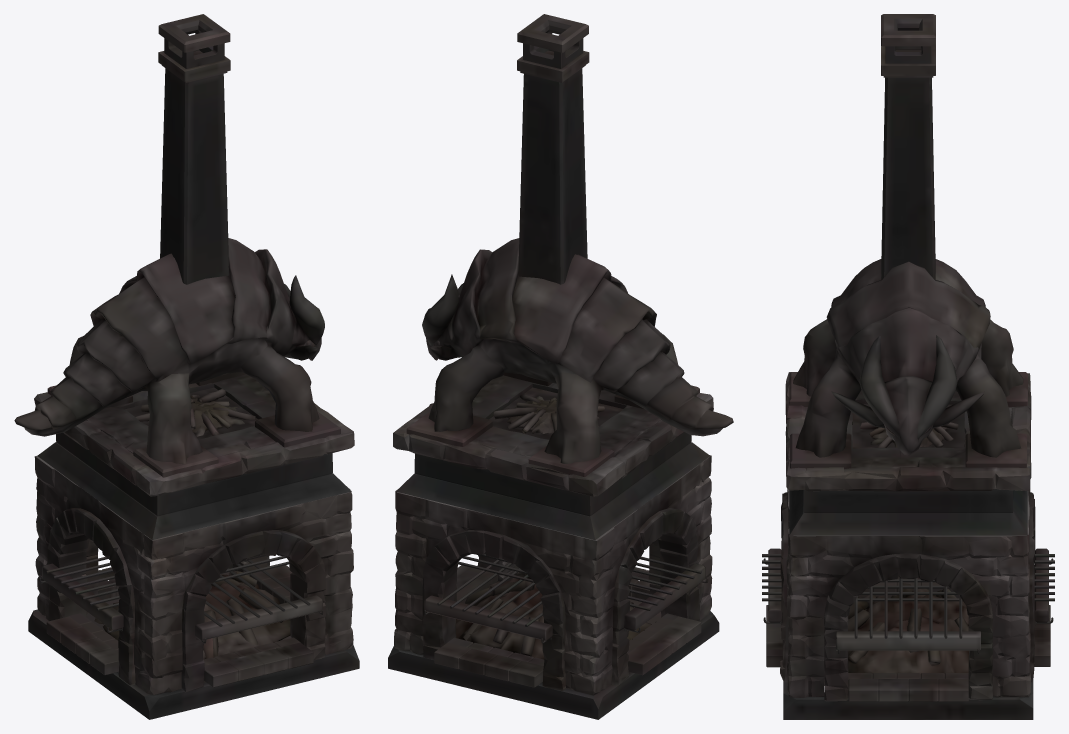
Rendered from SM_KitchenMedievalLarge_05c8cc.glb.
3 views of the same model, side by side, from view 1: azimuth 30°, elevation 25°; view 2: azimuth 150°, elevation 25°; view 3: azimuth 270°, elevation 25° (orthographic). The views are drawn at different scales.
Size of the model in its own units: 2.49 by 4.83 by 1.99.
Materials: 1 (1 with a texture image).
